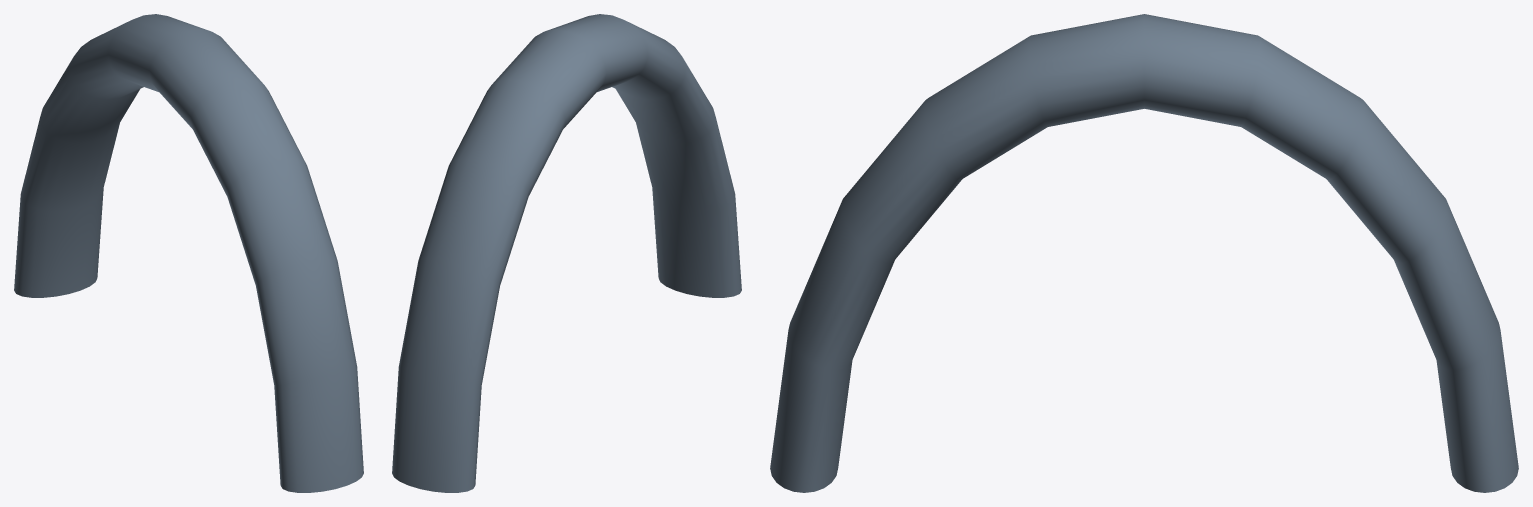
The model's file is last_wicket.obj.
3 views of the same model, side by side, from view 1: azimuth 30°, elevation 25°; view 2: azimuth 150°, elevation 25°; view 3: azimuth 270°, elevation 25° (orthographic). The views are drawn at different scales.
Parts seen in each view (by area): view 1: pTorus1; view 2: pTorus1; view 3: pTorus1.
Boxes of the visible parts, x1,y1,x2,y2 form: pTorus1: (14,14,363,492); pTorus1: (392,14,741,492); pTorus1: (770,14,1518,492).
Size of the model in its own units: 0.7266 by 3.08 by 4.67.
